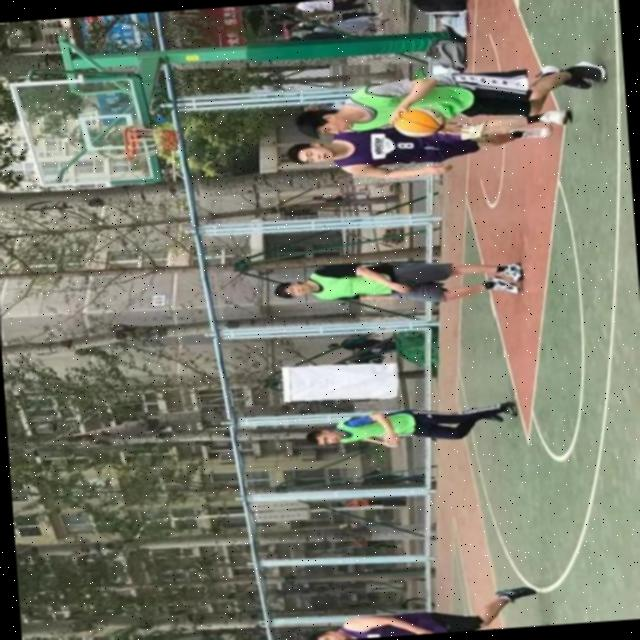ball: (392, 102, 448, 138)
hoop: (120, 124, 140, 164)
